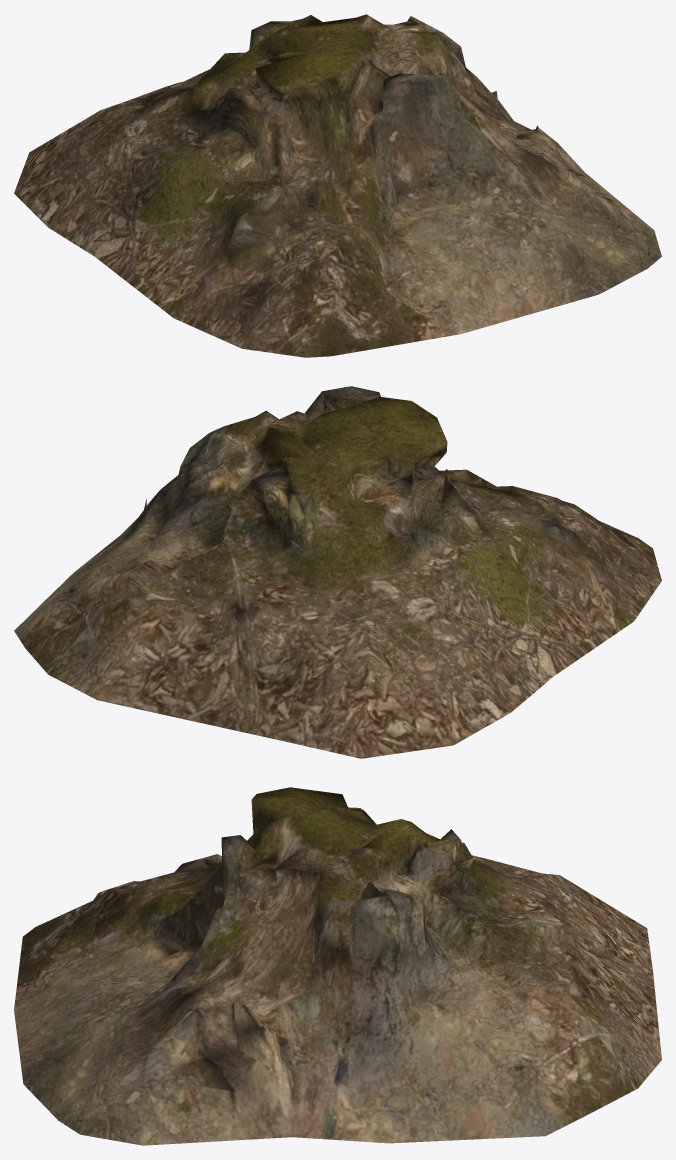
The model's file is tree_stump_01.glb.
3 renders of one model, top to bottom at view 1: azimuth 30°, elevation 25°; view 2: azimuth 150°, elevation 25°; view 3: azimuth 270°, elevation 25°, orthographic. The views are drawn at different scales.
Visible parts, largest first — view 1: tree_stump_01; view 2: tree_stump_01; view 3: tree_stump_01.
Boxes of the visible parts, <box> form: tree_stump_01: <box>14,14,661,357</box>; tree_stump_01: <box>14,386,661,758</box>; tree_stump_01: <box>14,787,661,1145</box>.
Size of the model in its own units: 1.42 by 0.5621 by 1.59.
Materials: 1 (1 with a texture image).
